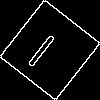I: (24, 24, 64, 70)
